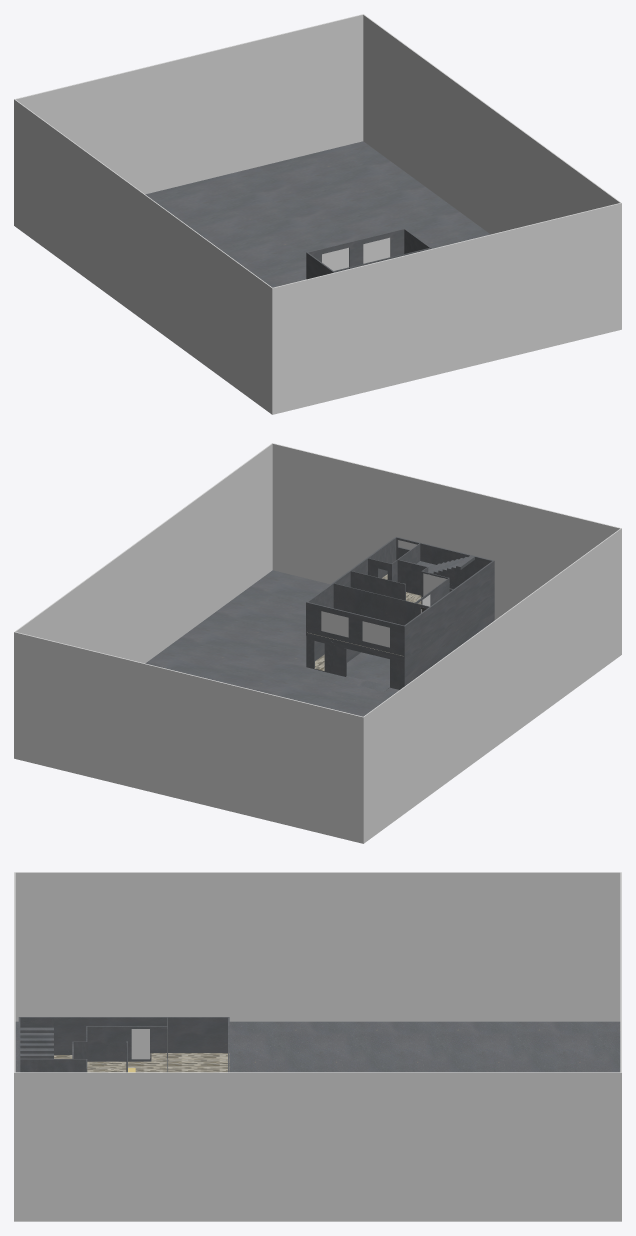
File: Casa-transformed.glb
The picture shows the model from 3 angles, top to bottom: view 1: azimuth 30°, elevation 25°; view 2: azimuth 150°, elevation 25°; view 3: azimuth 270°, elevation 25°; orthographic projection. The views are drawn at different scales.
Parts seen in each view (by area): view 1: Plano; view 2: Plano; view 3: Plano, Cubo.001.
Boxes of the visible parts, bbox=[...] form: Plano: bbox=[14, 14, 621, 414]; Plano: bbox=[14, 443, 621, 843]; Plano: bbox=[14, 872, 621, 1221]; Cubo.001: bbox=[54, 1053, 229, 1072].
Bounding box in the file's own units: 104 × 36 × 133.
Materials: 5 (3 with a texture image).
